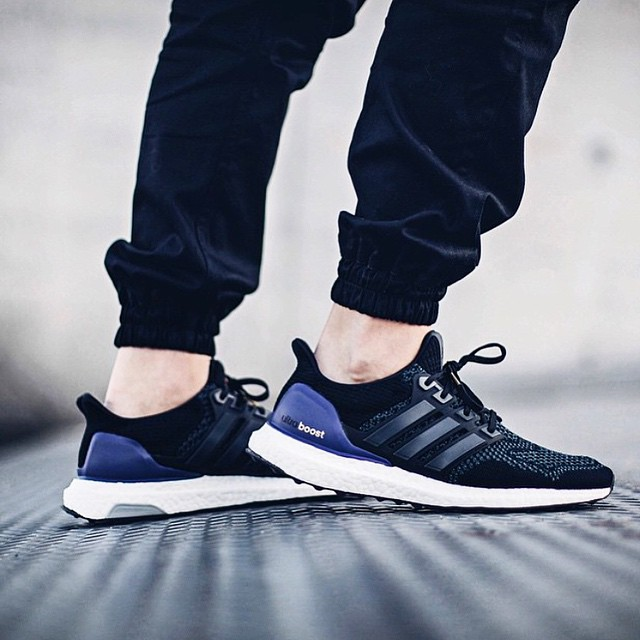sneaker: (236, 273, 626, 529), (28, 331, 395, 547)
